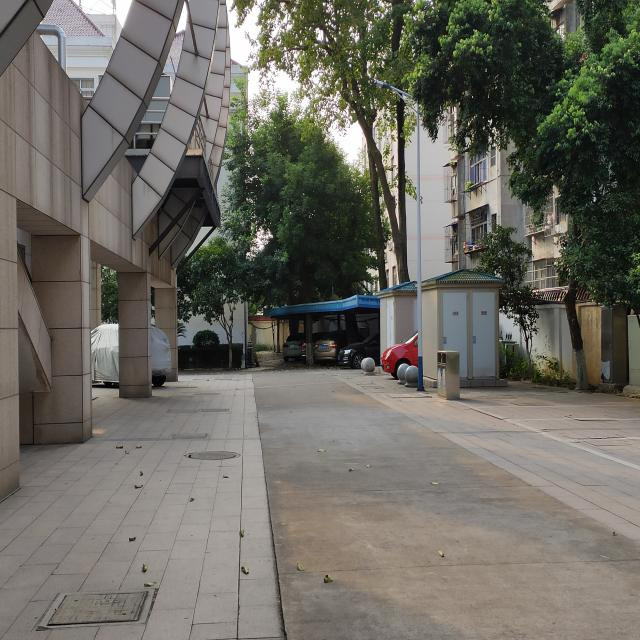ash bin: (436, 349, 462, 400)
car: (380, 329, 418, 377), (338, 330, 380, 369), (315, 329, 348, 364), (300, 332, 326, 363), (282, 332, 304, 362)
pole: (415, 122, 427, 386)
spherical_roadblock: (404, 364, 418, 388), (397, 363, 409, 384), (363, 357, 375, 375)
